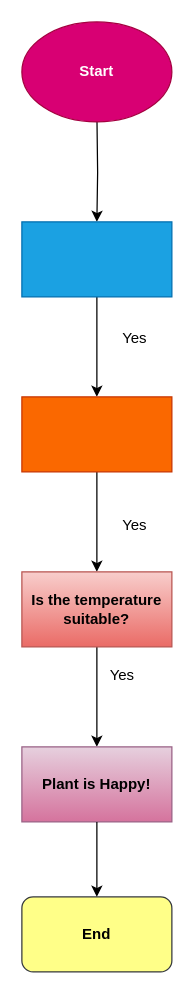
This 194x994 diagram has some shape labels left out. Each missing label, with the centre of its shape:
"Is the plant getting enough sunlight?" goes at point 96,259.
"Is the Soil moist?" goes at point 96,434.
